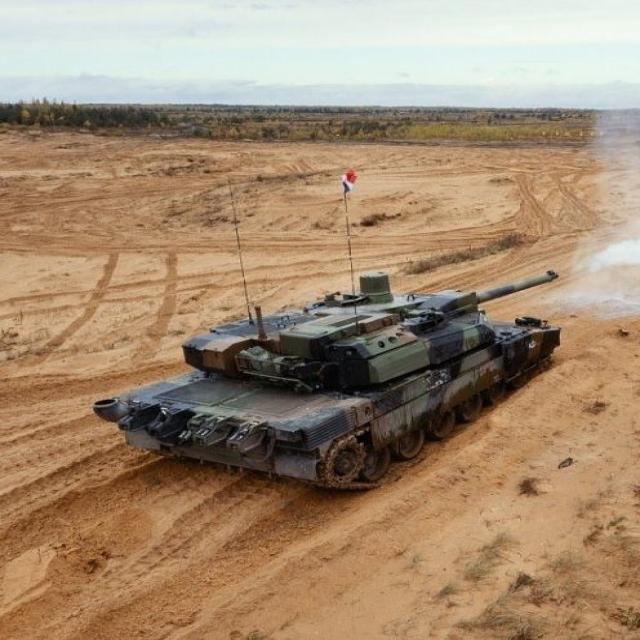tank: (93, 263, 566, 493)
